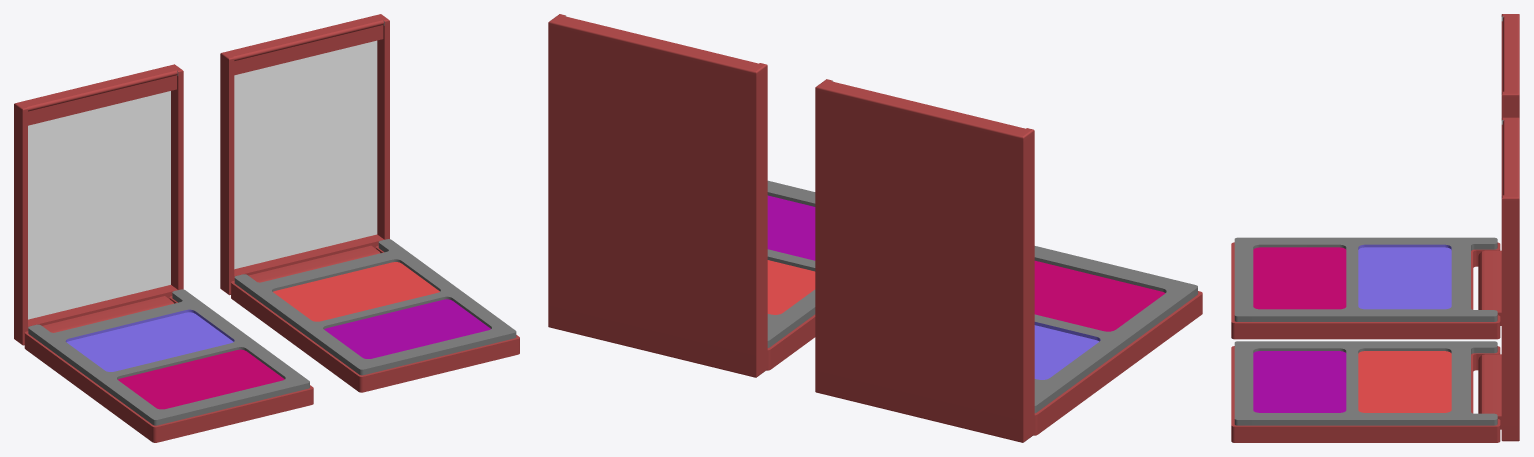
The model's file is blush_on.glb.
The picture shows the model from 3 angles, left to right: view 1: azimuth 30°, elevation 25°; view 2: azimuth 150°, elevation 25°; view 3: azimuth 270°, elevation 25°; orthographic projection. The views are drawn at different scales.
Visible parts, largest first — view 1: TutupBlushOn_02_GEO, TutupBlushOn_01_GEO, BodyBlushon_01_GEO, BodyBlushon_02_GEO; view 2: TutupBlushOn_01_GEO, TutupBlushOn_02_GEO, BodyBlushon_01_GEO, BodyBlushon_02_GEO; view 3: BodyBlushon_01_GEO, BodyBlushon_02_GEO, TutupBlushOn_02_GEO, TutupBlushOn_01_GEO.
Part boxes in pixels (bbox=[...]): TutupBlushOn_02_GEO: bbox=[220, 14, 389, 295]; TutupBlushOn_01_GEO: bbox=[14, 64, 183, 345]; BodyBlushon_01_GEO: bbox=[24, 289, 313, 442]; BodyBlushon_02_GEO: bbox=[231, 239, 519, 392]; TutupBlushOn_01_GEO: bbox=[815, 79, 1034, 442]; TutupBlushOn_02_GEO: bbox=[548, 14, 767, 377]; BodyBlushon_01_GEO: bbox=[1033, 246, 1202, 435]; BodyBlushon_02_GEO: bbox=[766, 180, 815, 370]; BodyBlushon_01_GEO: bbox=[1231, 237, 1500, 339]; BodyBlushon_02_GEO: bbox=[1231, 341, 1500, 442]; TutupBlushOn_02_GEO: bbox=[1478, 117, 1519, 441]; TutupBlushOn_01_GEO: bbox=[1478, 14, 1519, 325].
Bounding box in the file's own units: 0.1461 × 0.0905 × 0.0965.
